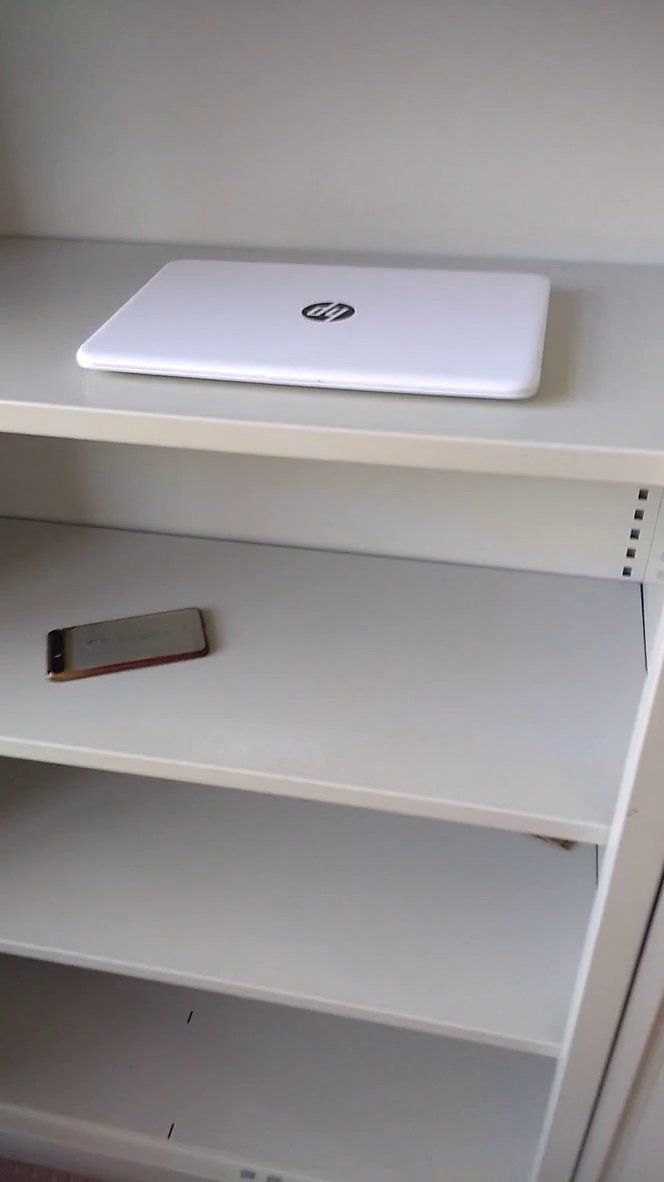laptop: (59, 246, 593, 430)
phone: (32, 591, 247, 695)
